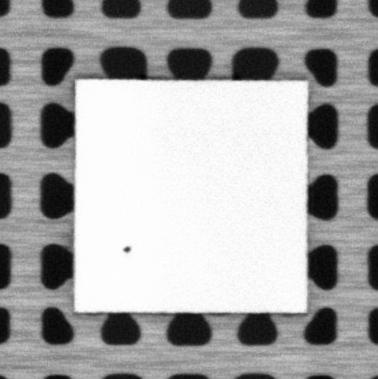DIE_INK: (122, 243, 131, 254)
